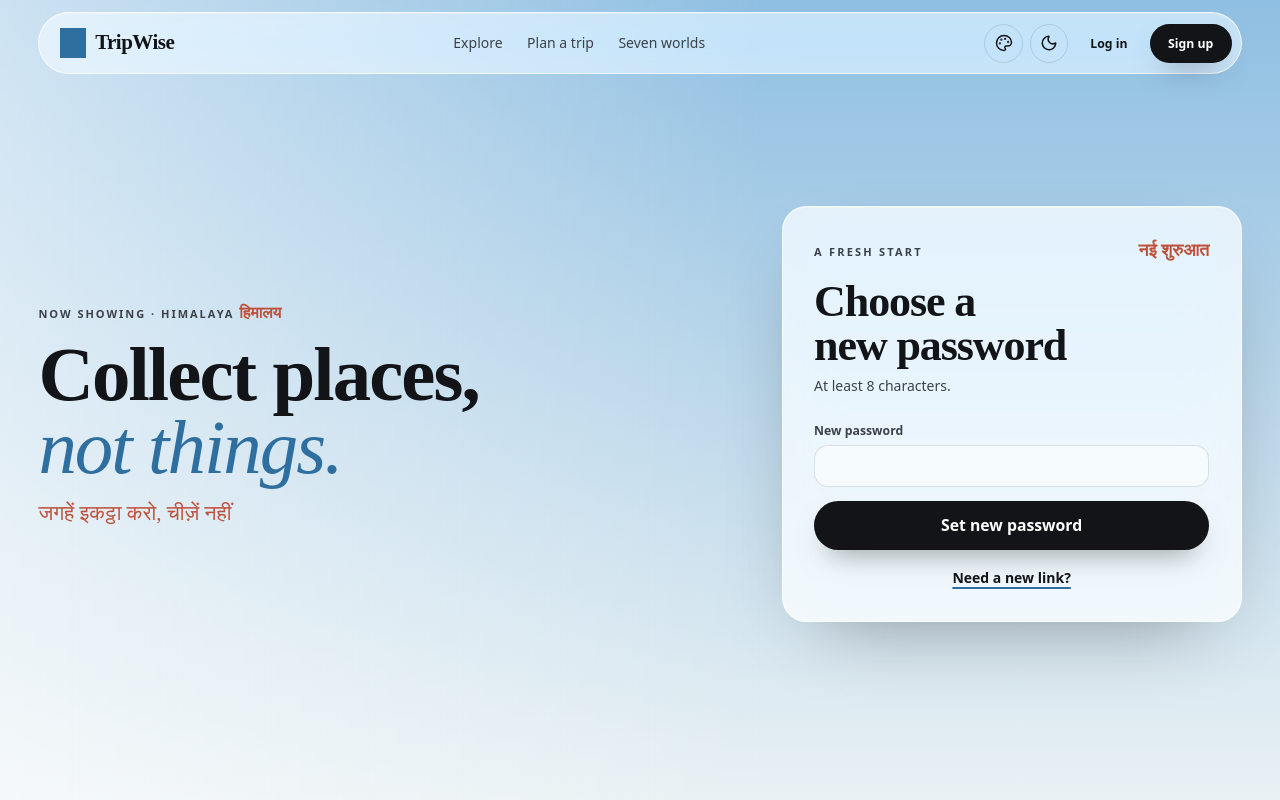
Test: forgot and reset password › explains an expired link
Type "brandnew123" into the password field labelled "New password".
click(1012, 466); type("brandnew123")  # box [814,445,1209,487]
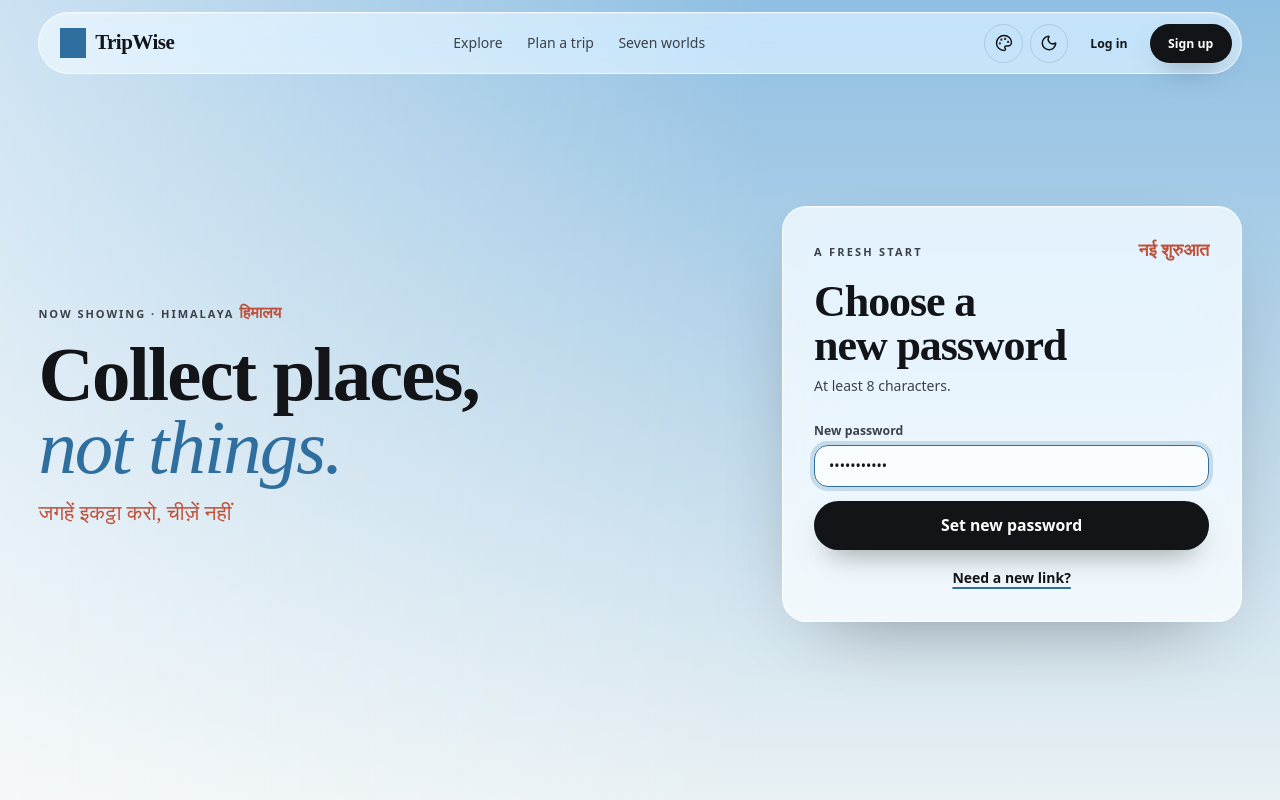
Click the button "Set new password".
click(1012, 525)  # box [814,501,1209,550]
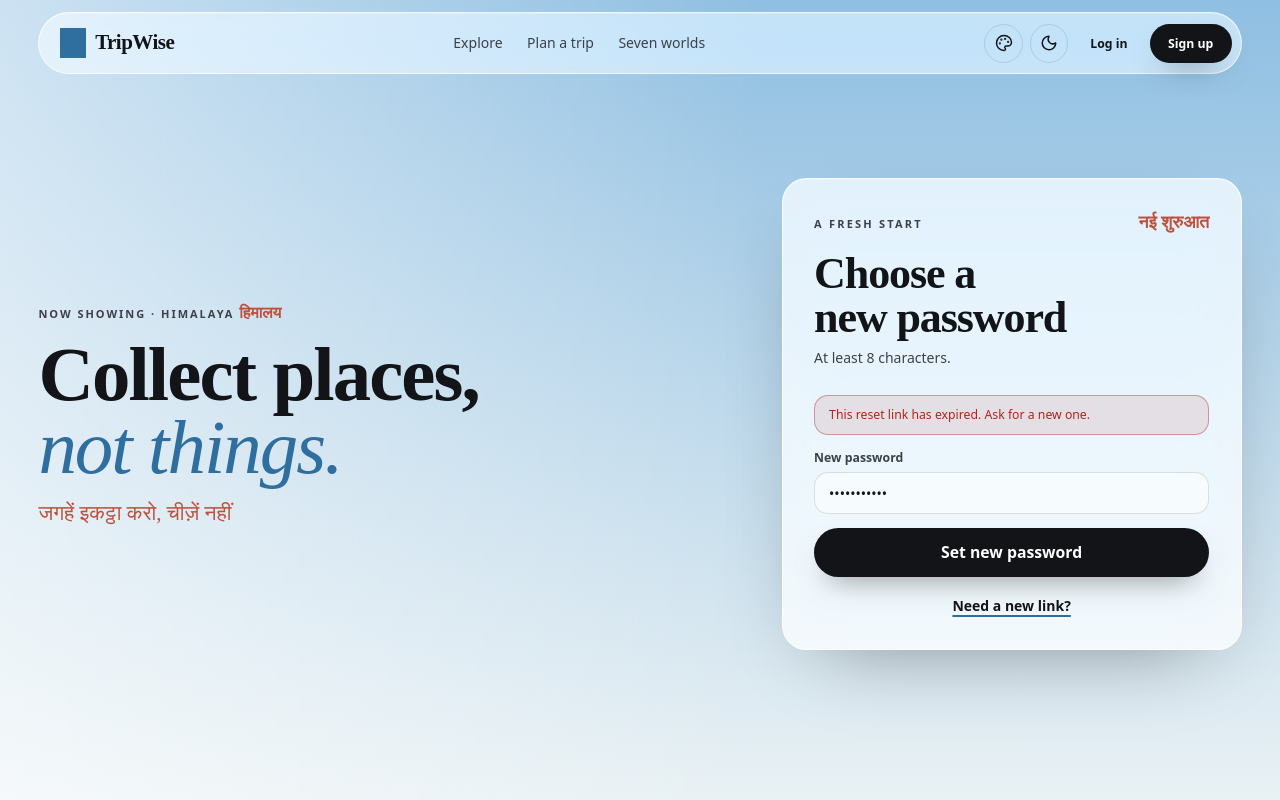
Expected: the message reads "This reset link has expired. Ask for a new one.", [829,406,1090,423]
